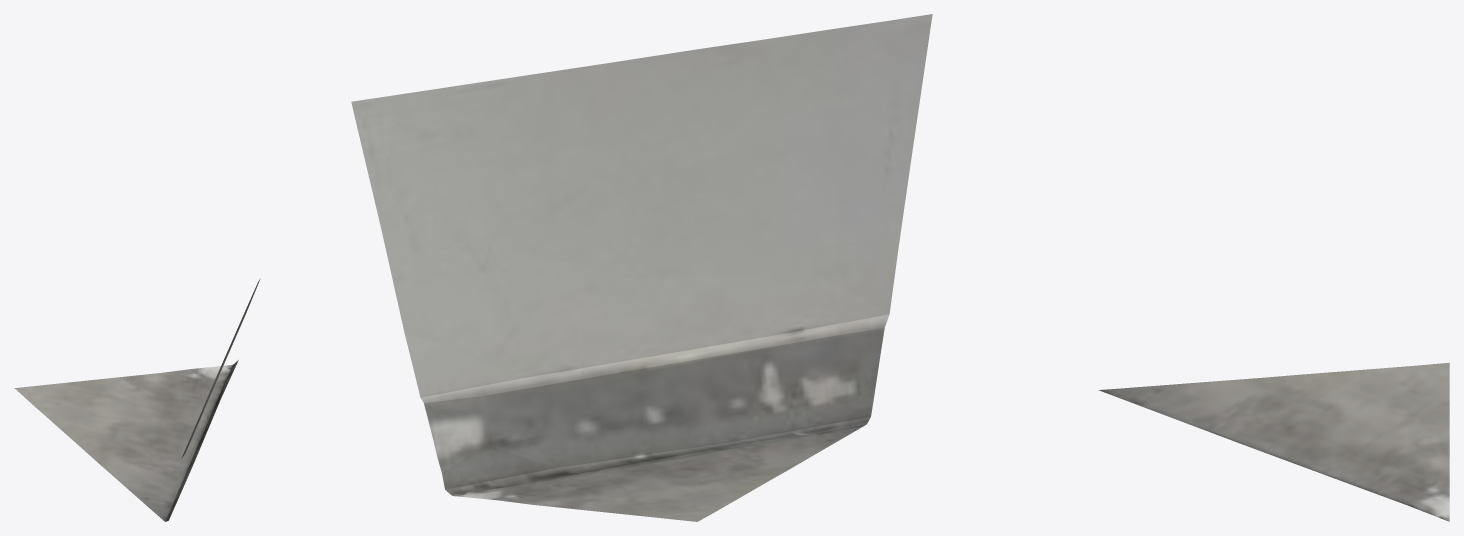
The picture shows the model from 3 angles, left to right: view 1: azimuth 30°, elevation 25°; view 2: azimuth 150°, elevation 25°; view 3: azimuth 270°, elevation 25°; orthographic projection. The views are drawn at different scales.
Bounding box in the file's own units: 1.2 × 1.22 × 1.41.
1 material, 1 textured.
